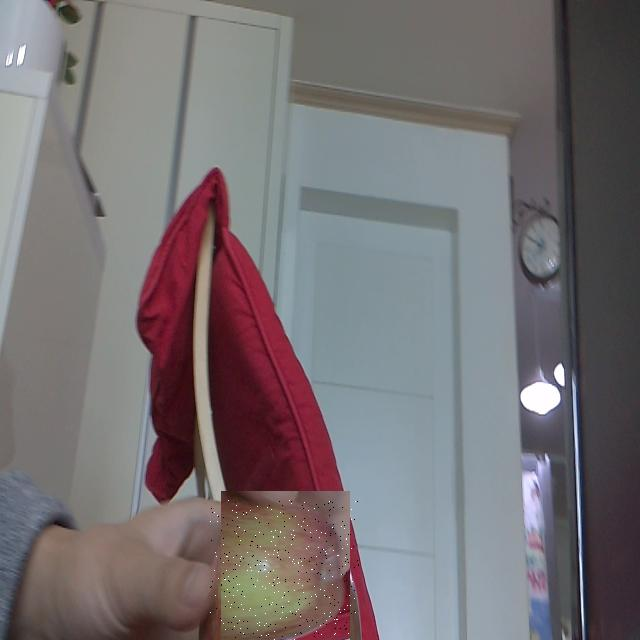apple: (210, 500, 359, 640)
